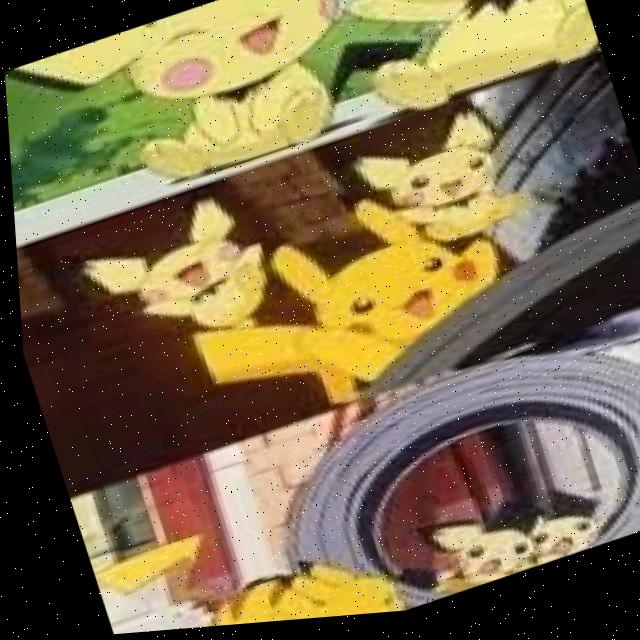pichu: (31, 0, 356, 212), (295, 0, 602, 141), (73, 183, 290, 351), (321, 117, 545, 265), (487, 467, 640, 580), (383, 511, 516, 614)
